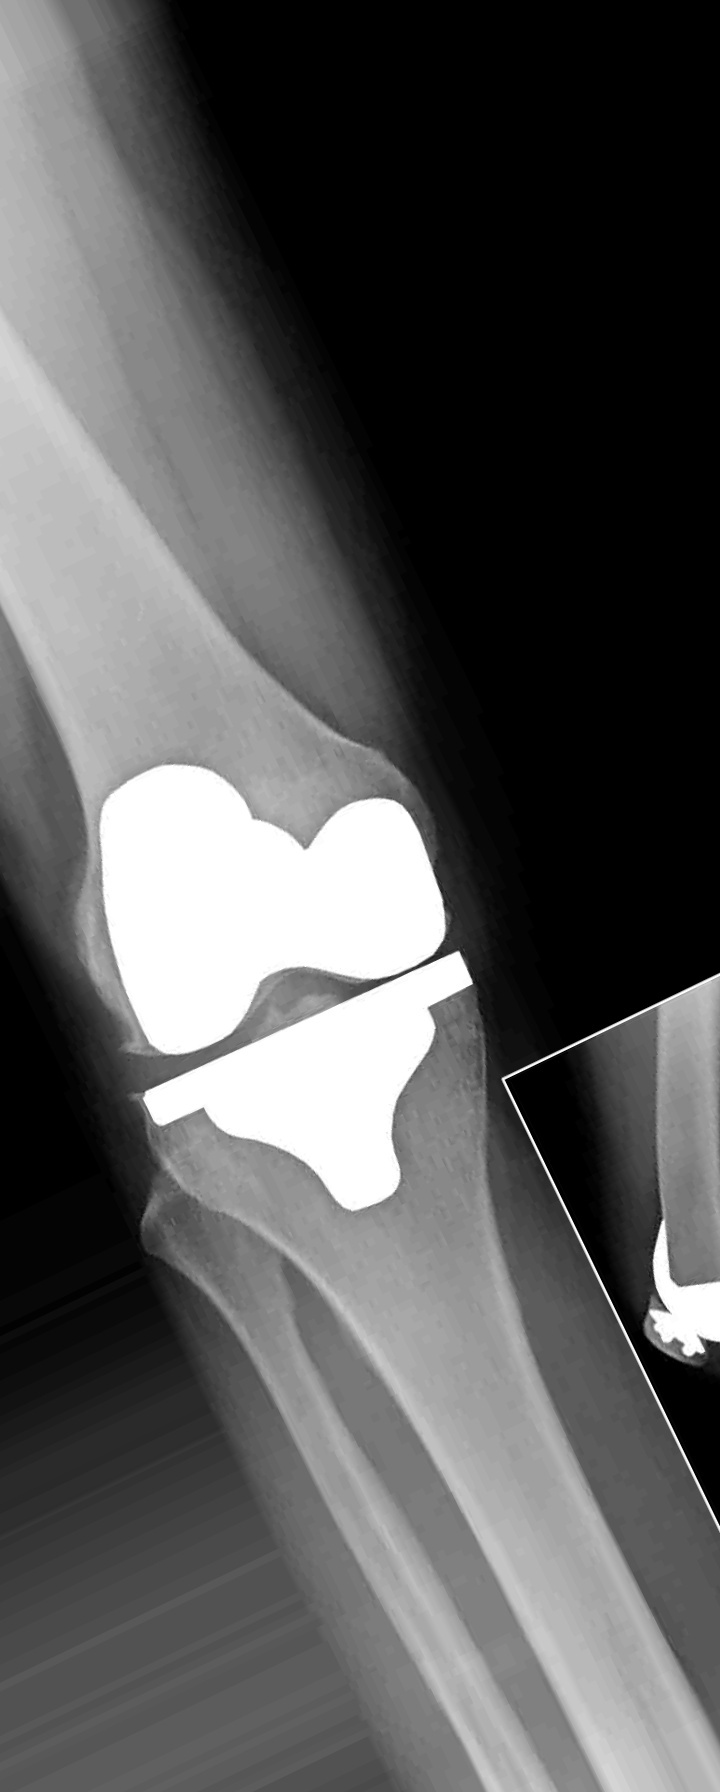Knee-TriathlonTritanium-Stryker: (69, 742, 477, 1216), (622, 1175, 720, 1371)
